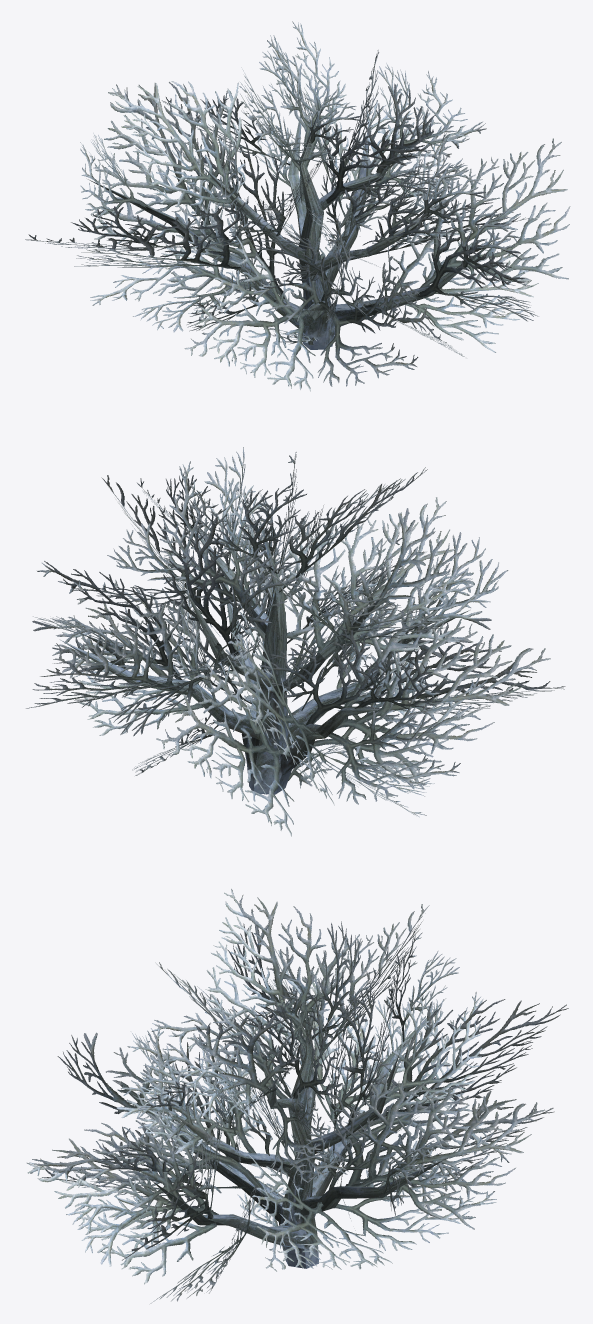
File: guanmu_1.FBX
3 renders of one model, top to bottom at view 1: azimuth 30°, elevation 25°; view 2: azimuth 150°, elevation 25°; view 3: azimuth 270°, elevation 25°, orthographic. The views are drawn at different scales.
Visible parts, largest first — view 1: guanmu_1; view 2: guanmu_1; view 3: guanmu_1.
Part boxes in pixels (bbox=[...]): guanmu_1: bbox=[25, 21, 570, 391]; guanmu_1: bbox=[26, 447, 565, 836]; guanmu_1: bbox=[27, 889, 568, 1303].
Bounding box in the file's own units: 286 × 178 × 278.
Materials: 1 (1 with a texture image).
